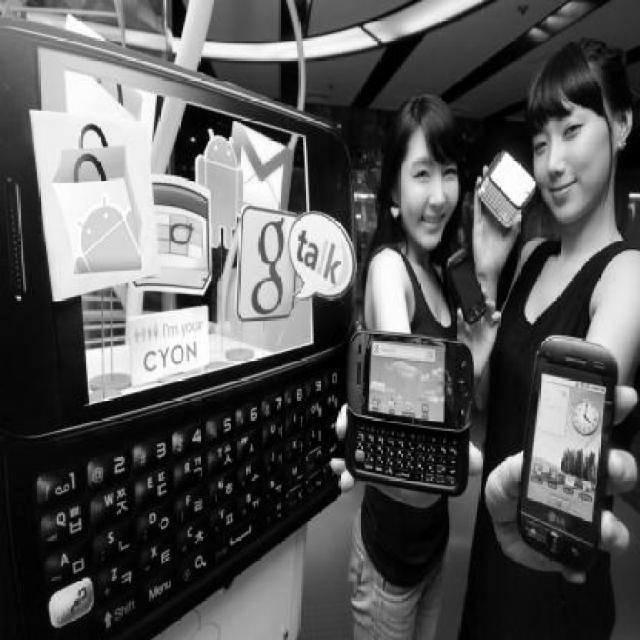fake: (0, 12, 357, 638), (342, 331, 480, 507), (519, 338, 618, 574), (478, 150, 538, 227), (448, 246, 490, 326)
